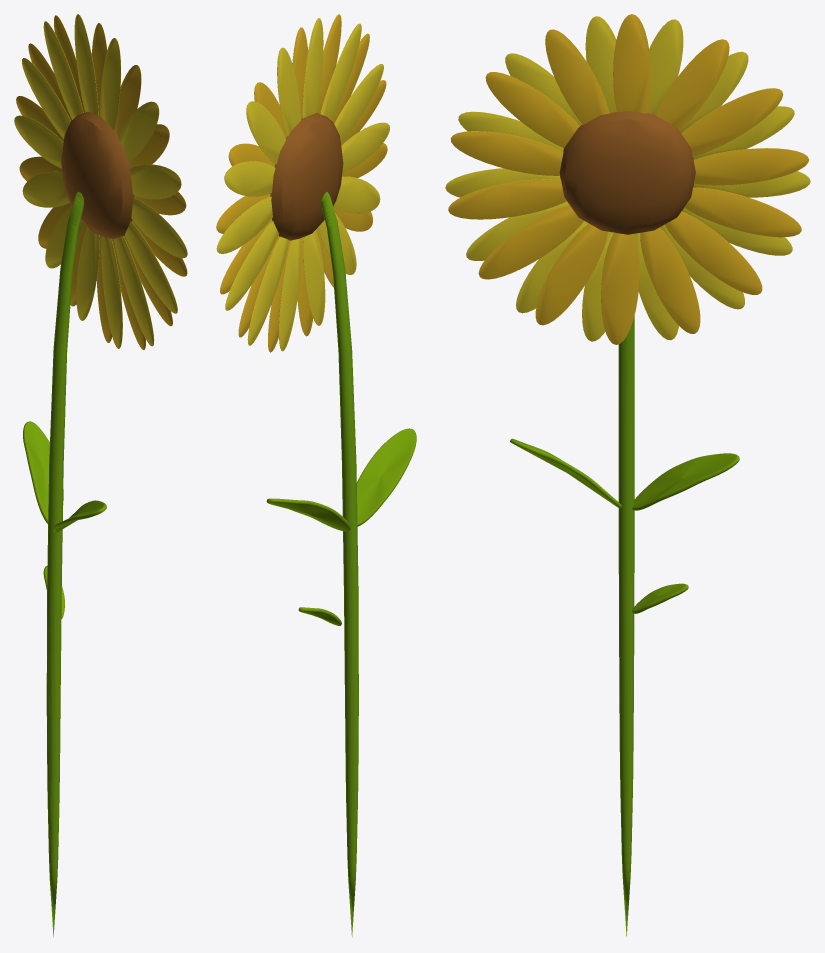
The model's file is primavera4.fbx.
The picture shows the model from 3 angles, left to right: view 1: azimuth 30°, elevation 25°; view 2: azimuth 150°, elevation 25°; view 3: azimuth 270°, elevation 25°; orthographic projection. The views are drawn at different scales.
Visible parts, largest first — view 1: Circle.031, Circle.021, Cube.037, Circle.020; view 2: Circle.031, Circle.021, Cube.037, Circle.020; view 3: Circle.031, Cube.037, Circle.021, Circle.020.
Part boxes in pixels (<box>): Circle.031: <box>14,14,187,349</box>; Circle.021: <box>46,191,83,937</box>; Cube.037: <box>61,111,134,239</box>; Circle.020: <box>23,421,106,618</box>; Circle.031: <box>216,14,389,352</box>; Circle.021: <box>321,192,358,937</box>; Cube.037: <box>270,113,343,240</box>; Circle.020: <box>266,428,416,625</box>; Circle.031: <box>445,14,810,344</box>; Cube.037: <box>559,111,695,234</box>; Circle.021: <box>618,316,634,936</box>; Circle.020: <box>510,438,739,613</box>.
Size of the model in its own units: 9.39 by 89.05 by 31.03.
